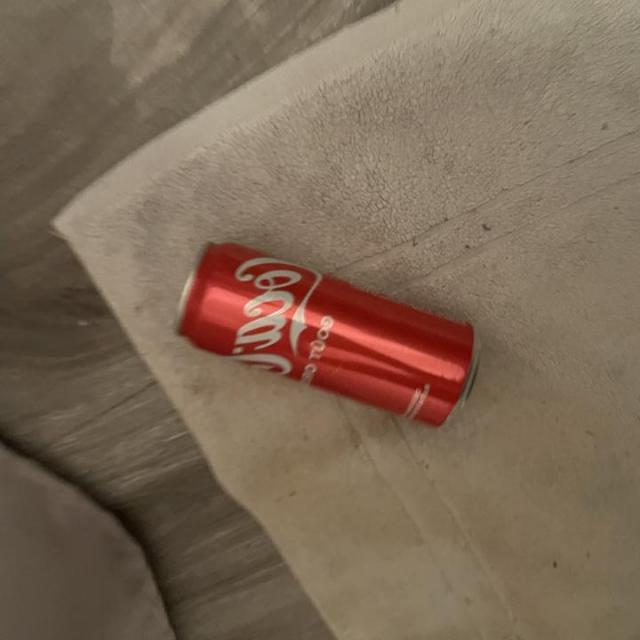can: (168, 236, 484, 434)
